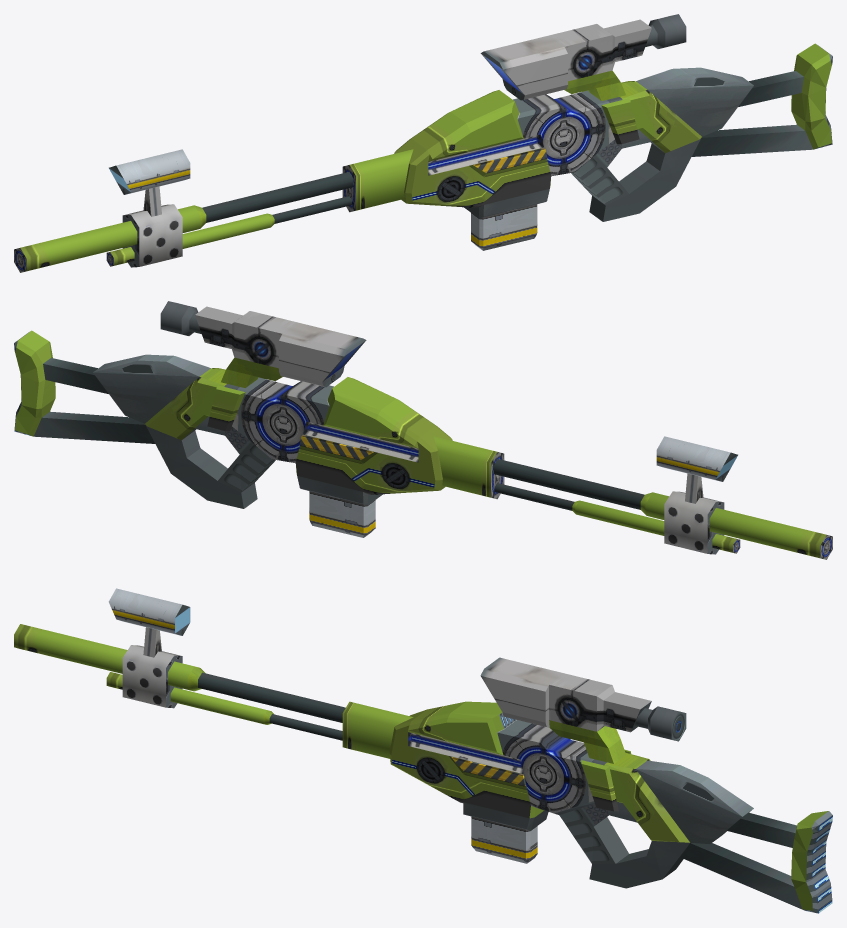
File: AWP_02.FBX
3 views of the same model, one above another, from view 1: azimuth 30°, elevation 25°; view 2: azimuth 150°, elevation 25°; view 3: azimuth 330°, elevation 25° (orthographic).
Parts seen in each view (by area): view 1: LASER; view 2: LASER; view 3: LASER.
Boxes of the visible parts, left/top/right/bottom form: LASER: left=14, top=14, right=832, bottom=272; LASER: left=14, top=301, right=832, bottom=559; LASER: left=14, top=588, right=832, bottom=913.
Bounding box in the file's own units: 718 × 160 × 39.48.
